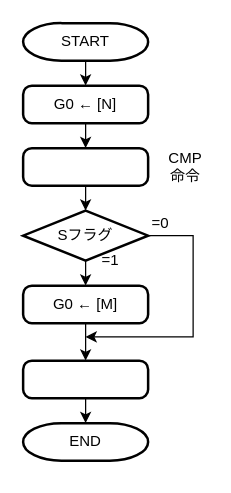
Some shapes in this 231 by 493 pixel diagram are drawn without their labels. Each missing label, with the centre of its shape:
"[L] ← G0" belongs at [85,379].
"G0 - [M]" belongs at [85,166].
